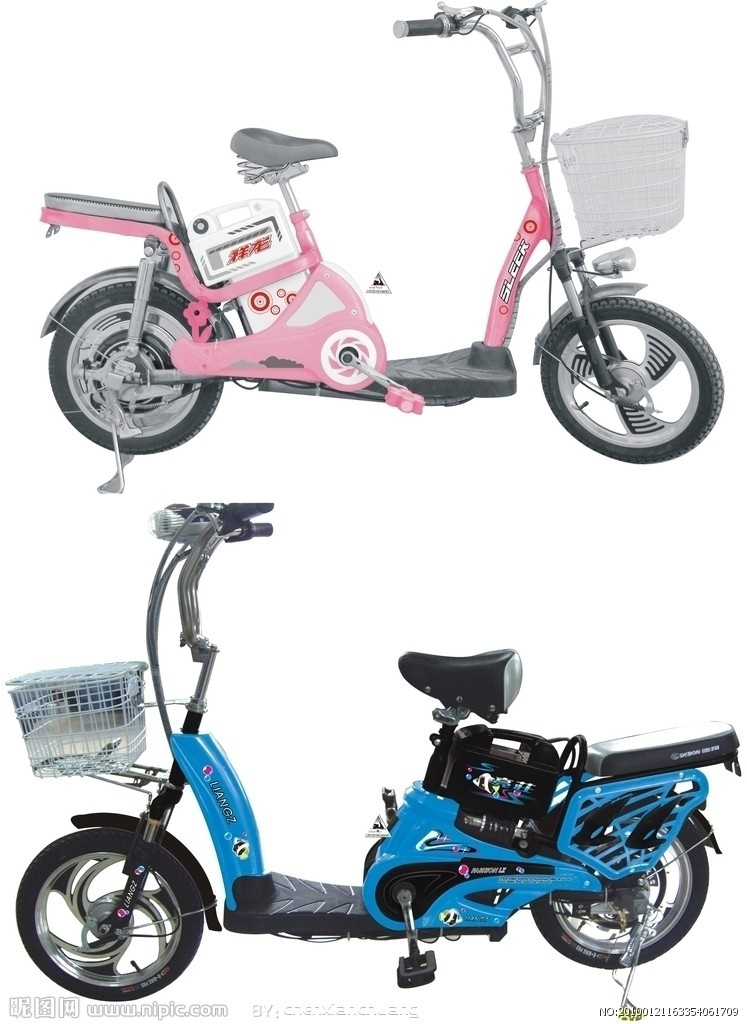non-vehicle: (11, 498, 729, 1009), (35, 40, 720, 464)
